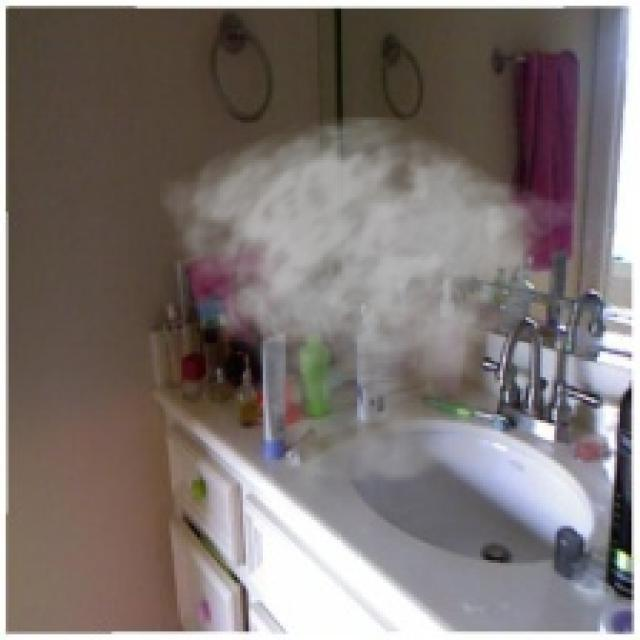smoke: (160, 114, 577, 520)
